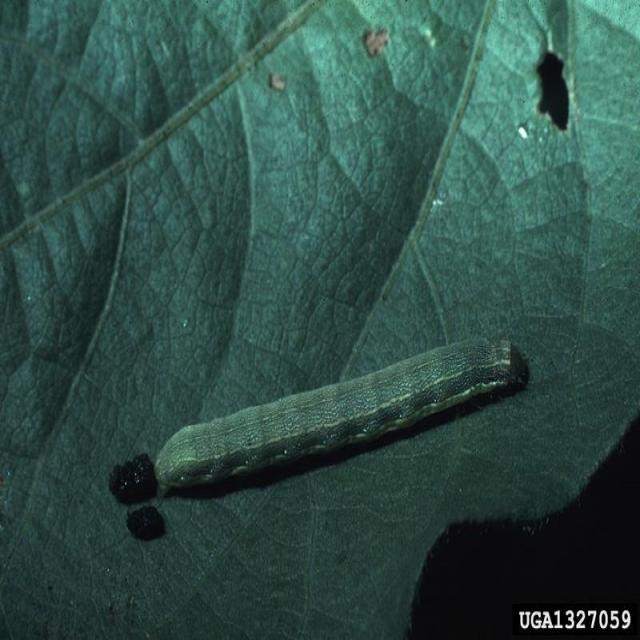BeetArmyWorm-Larva-: (154, 329, 518, 504)
